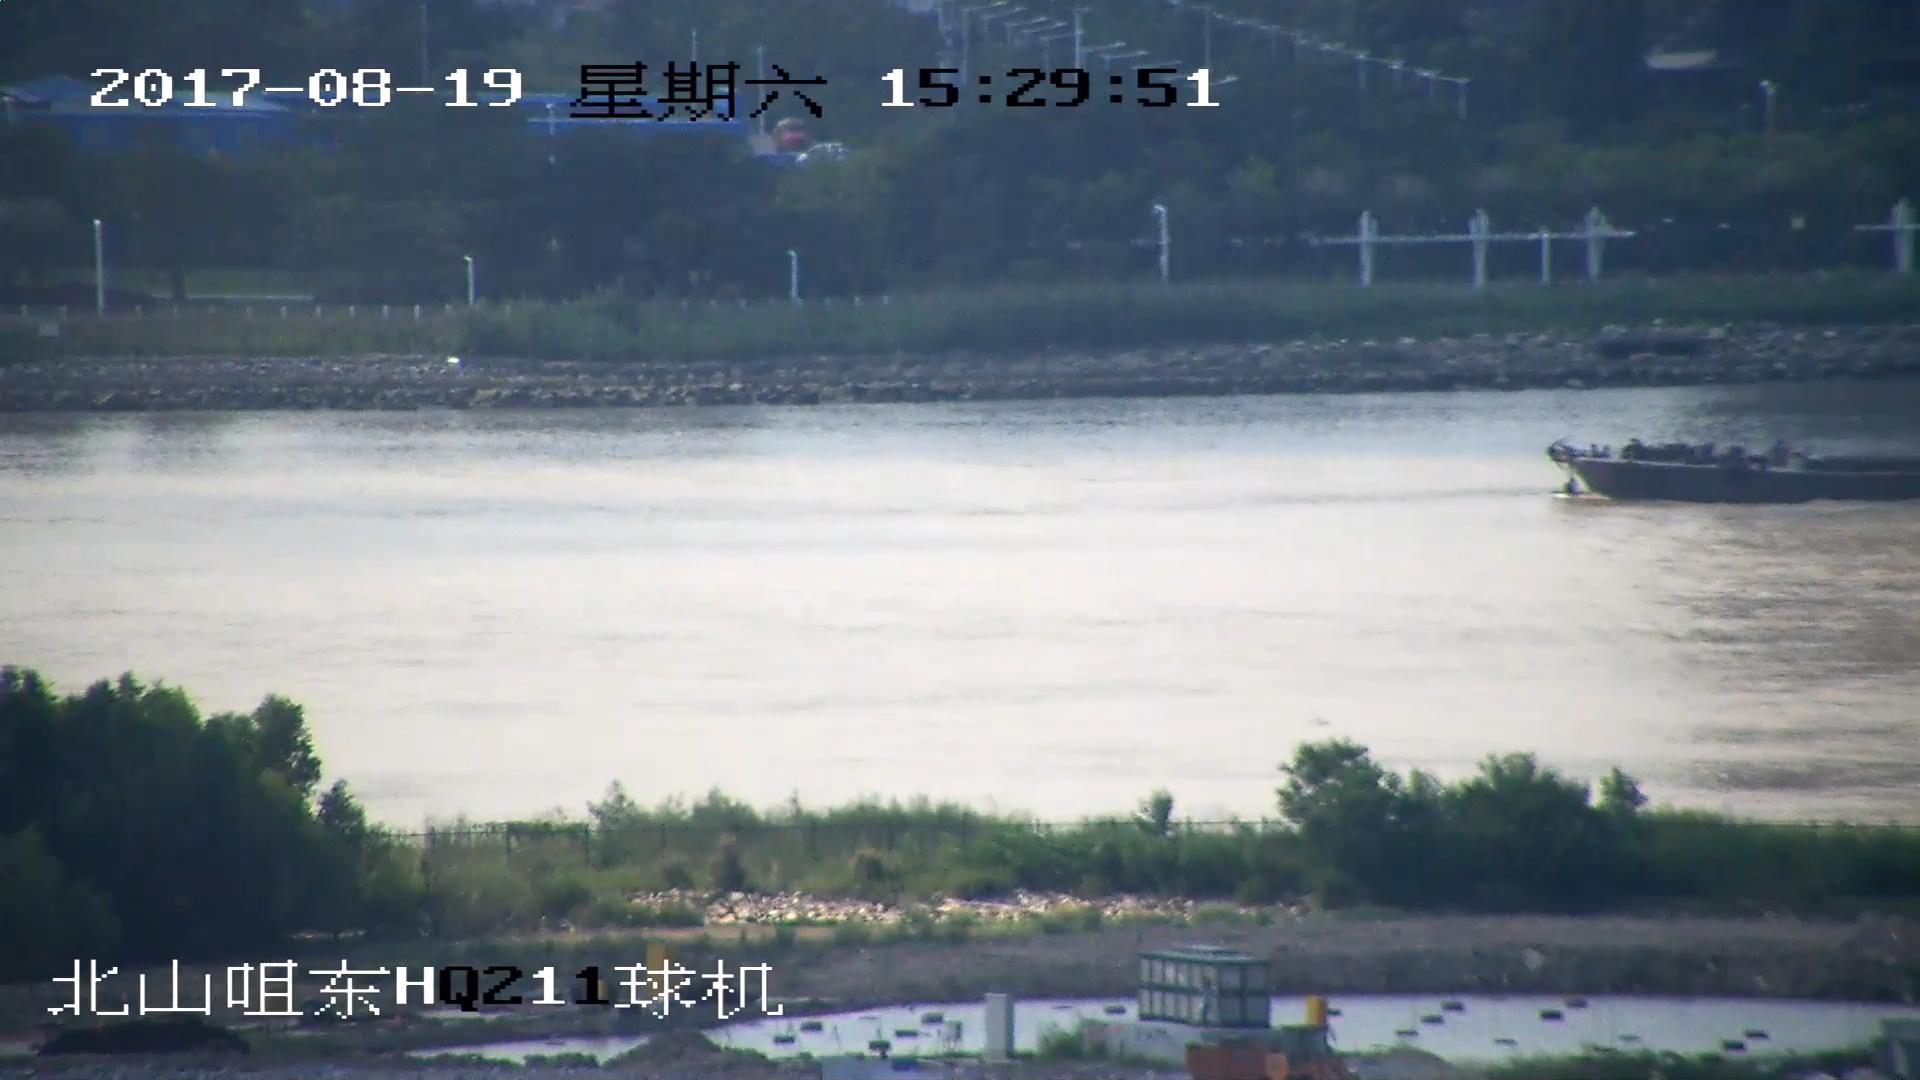Ship: (1543, 421, 1920, 506)
